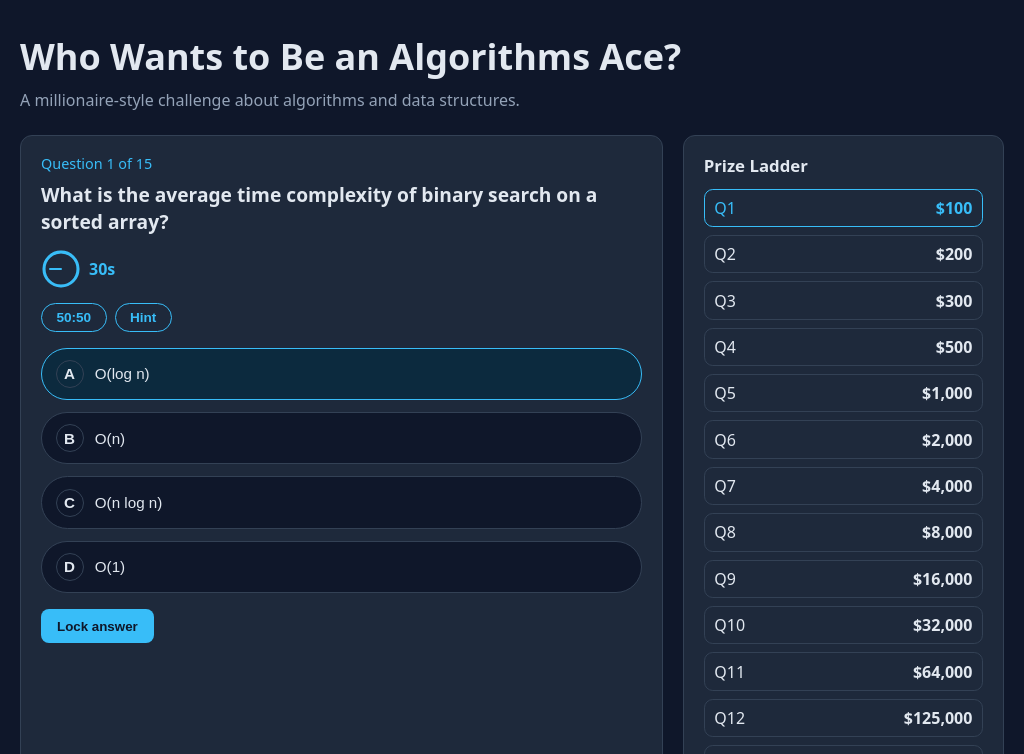
Scenario: AlgorithmsQuizPage › ends the game on a wrong answer
Click the text "O(n)" at (110, 438), box [95,430,125,447]
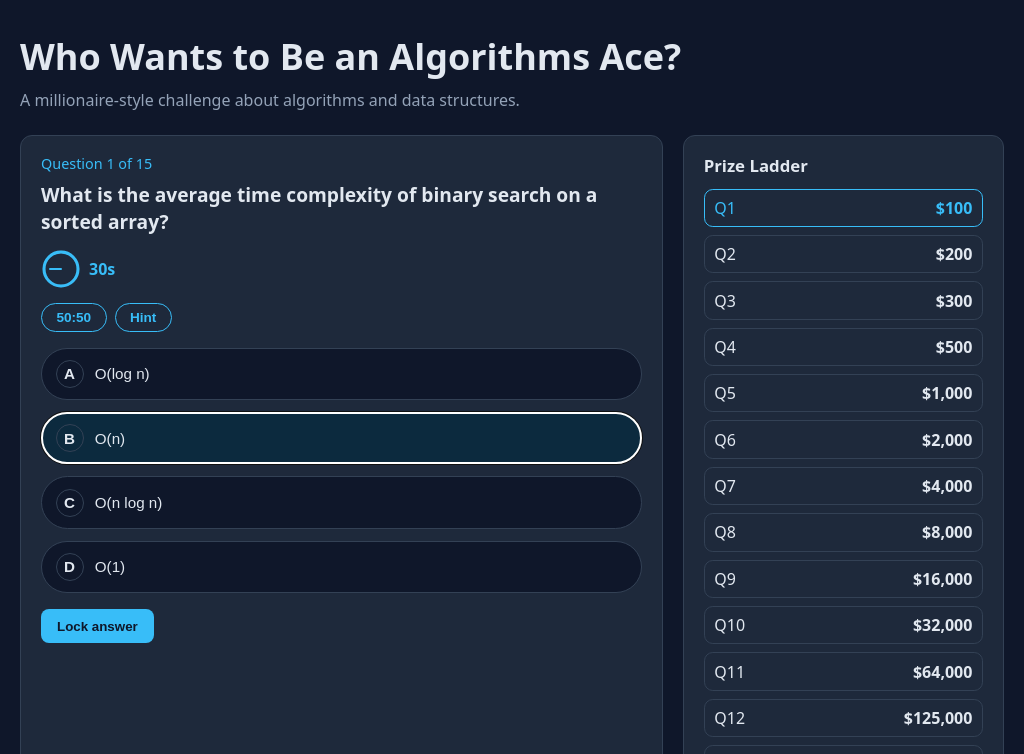
Click the button "Lock answer" at (97, 626), box [41,609,154,643]
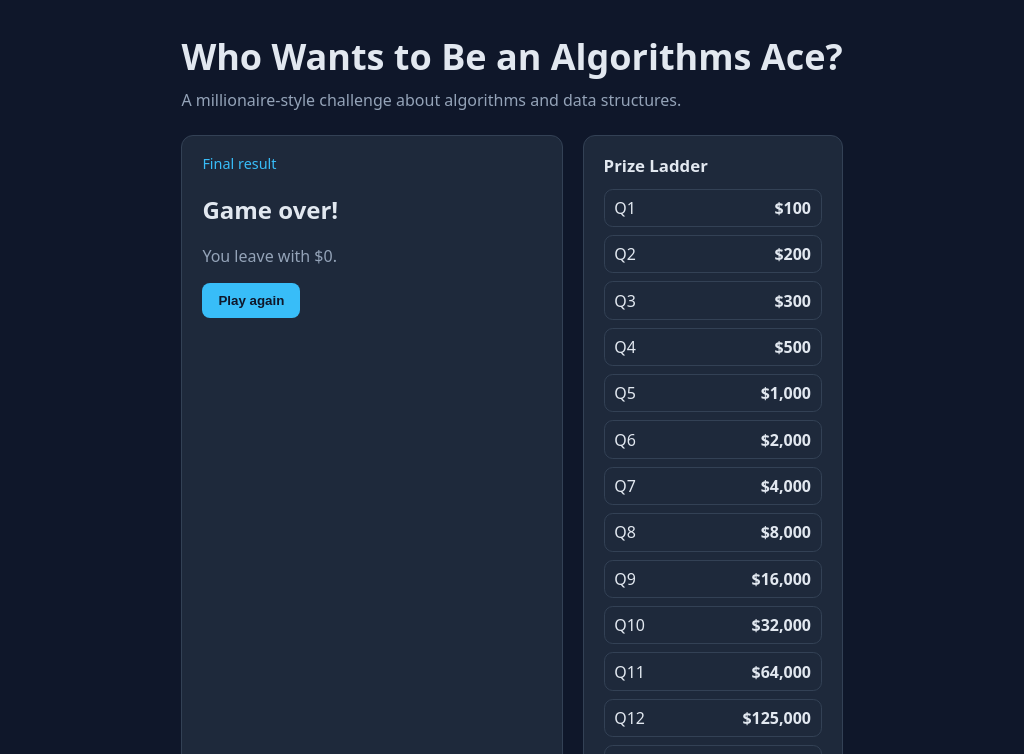
Expected: the heading "Game over!" is shown, [202,192,338,226]
Expected: the text "You leave with $0." is shown, [202,245,337,267]
